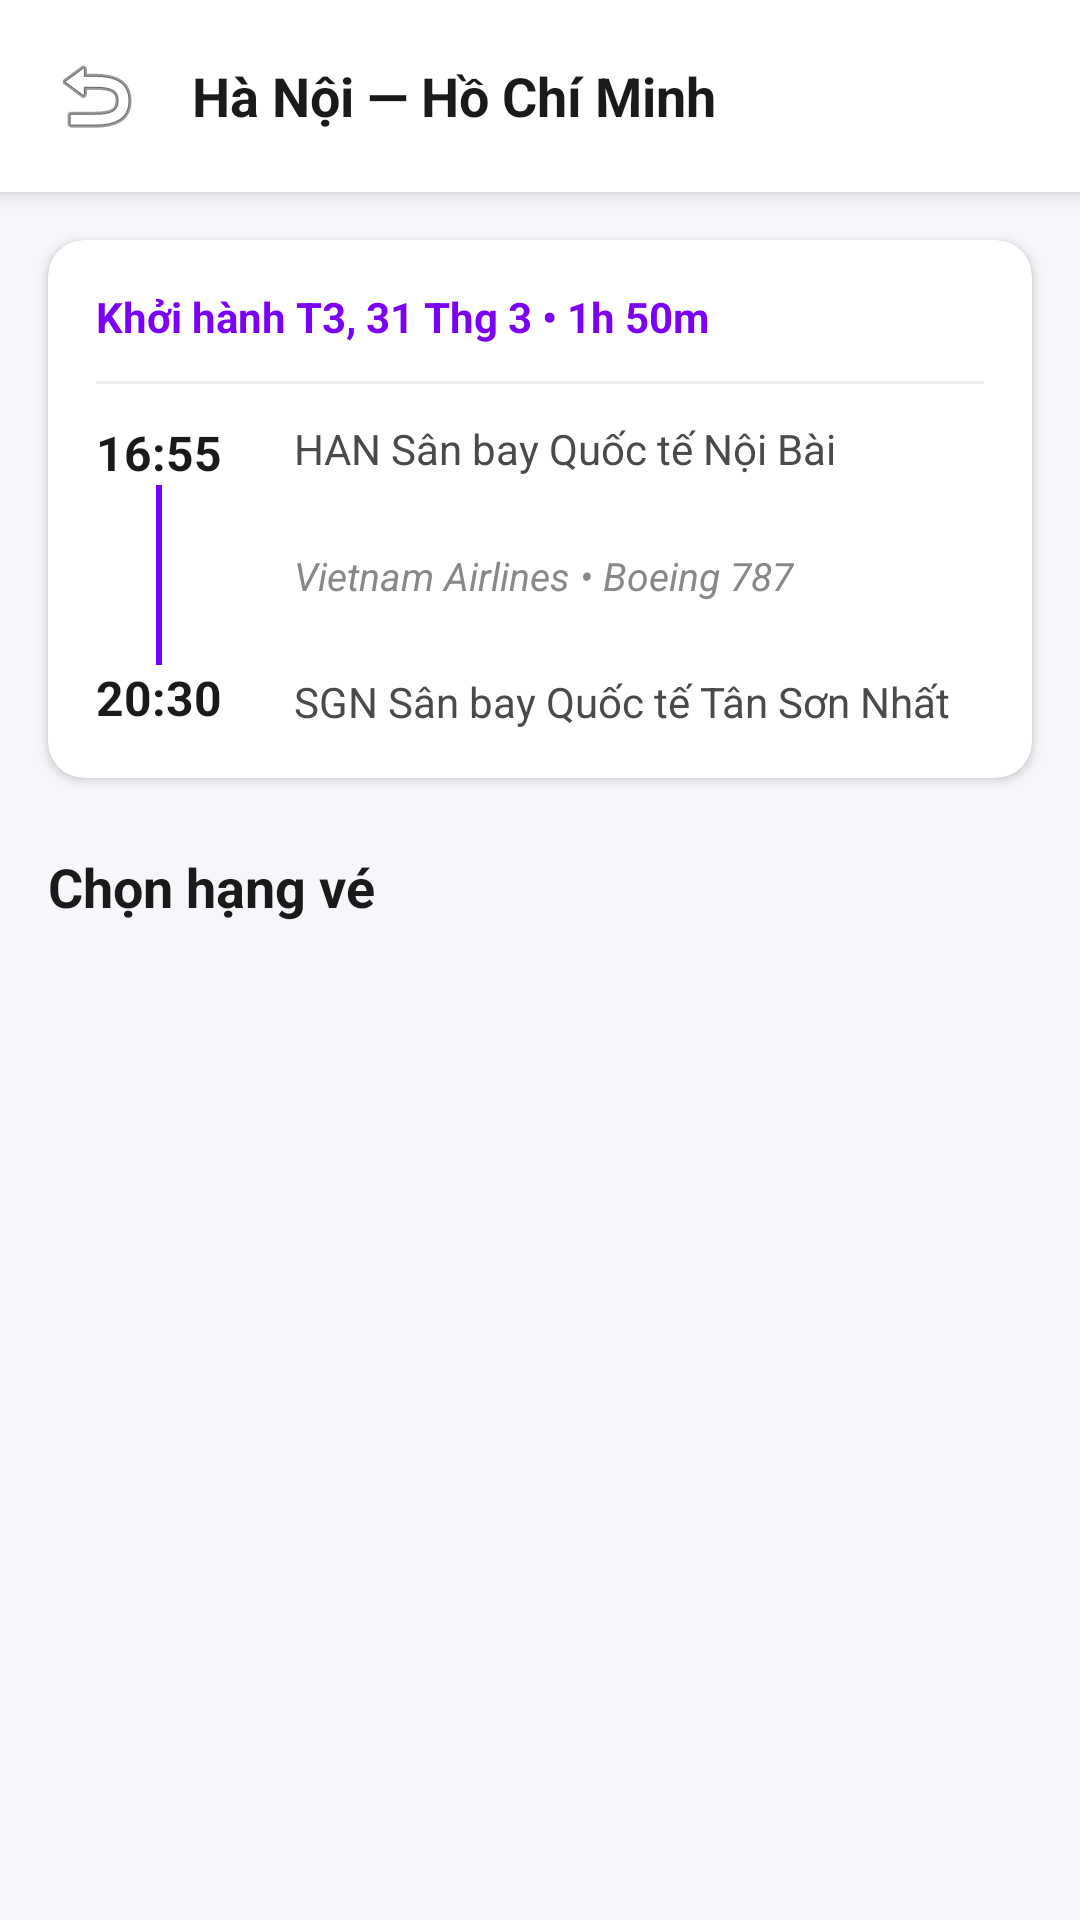

Icon click points for this 1080×1920 phone screenshot, format (x,y):
Quay lại: (97,96)
